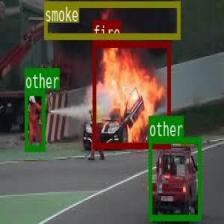fire: (92, 41, 170, 147)
smoke: (44, 1, 180, 38)
